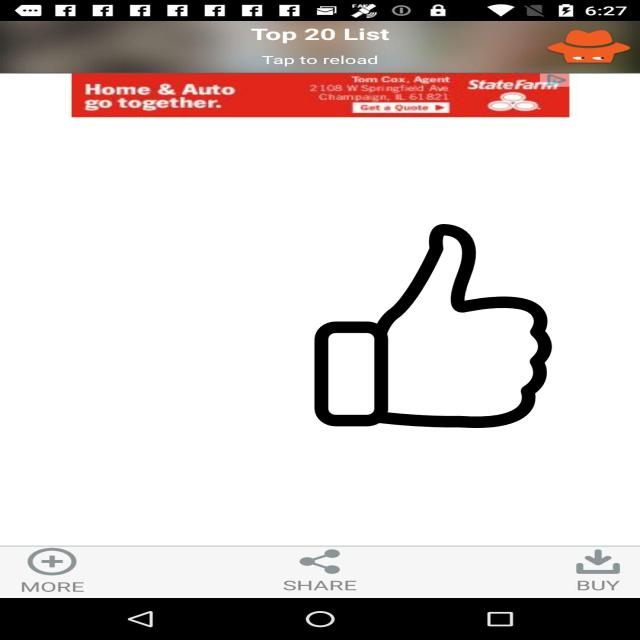privacy zuckering: (311, 224, 555, 428)
